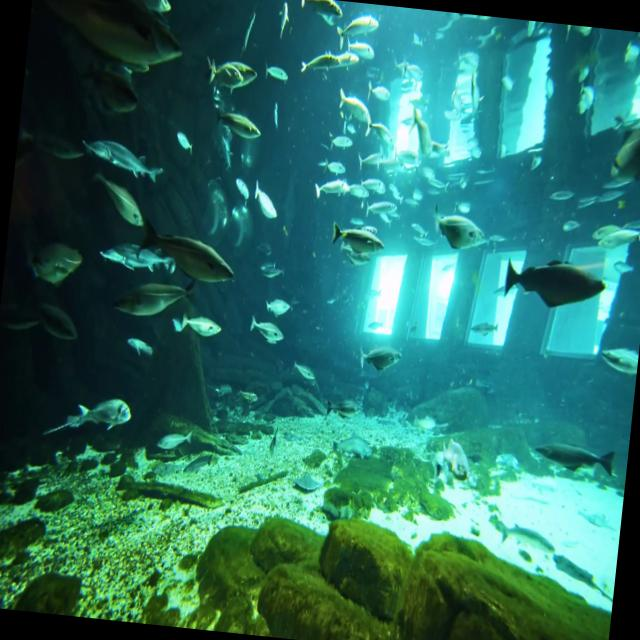fish: (25, 0, 188, 78), (132, 214, 239, 290), (504, 253, 610, 312), (45, 391, 134, 451), (78, 136, 166, 188), (92, 168, 150, 224), (532, 439, 614, 477), (431, 202, 489, 249), (97, 240, 177, 273), (330, 224, 388, 256), (210, 107, 262, 141), (200, 58, 258, 88), (334, 88, 374, 130), (335, 12, 379, 50), (589, 219, 640, 251), (248, 314, 290, 350), (356, 341, 404, 372), (183, 312, 223, 341), (250, 182, 279, 219), (263, 292, 291, 320)
